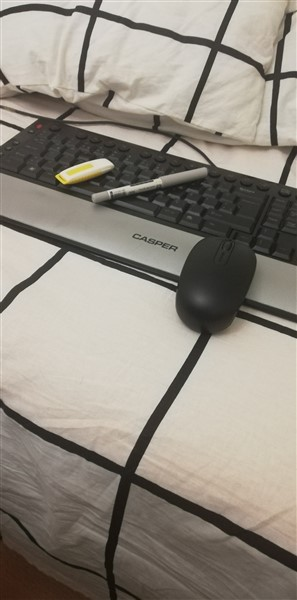flash disk: (52, 154, 116, 186)
klavye: (2, 111, 297, 320)
mouse: (180, 230, 258, 341)
pilot kalem: (93, 165, 210, 209)
